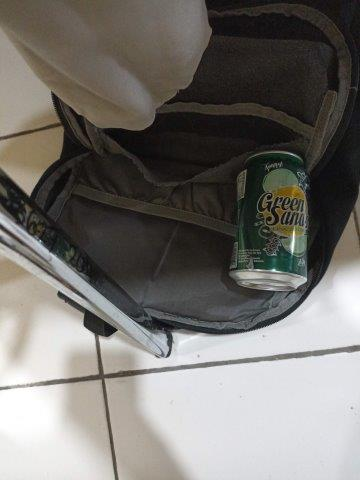kaleng: (228, 151, 307, 291)
